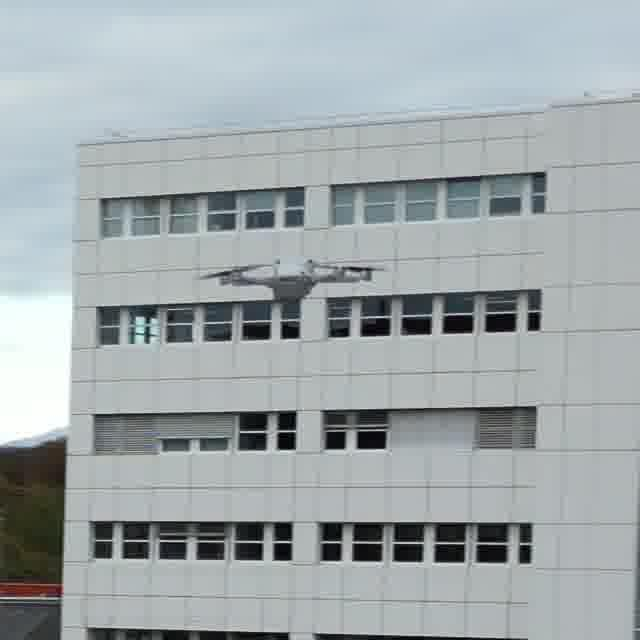Drohne: (201, 259, 384, 301)
